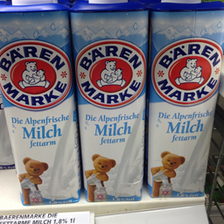milk: (71, 1, 152, 202), (1, 1, 80, 207), (145, 1, 221, 195)
